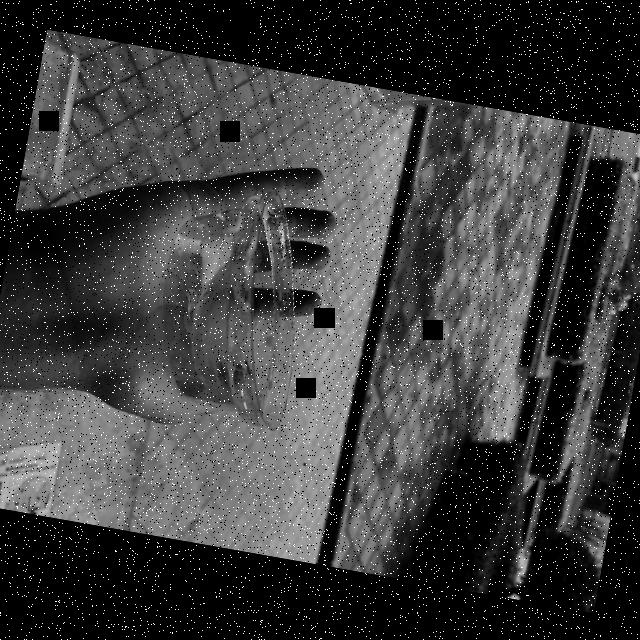plastic_cup_lid: (138, 170, 330, 434)
